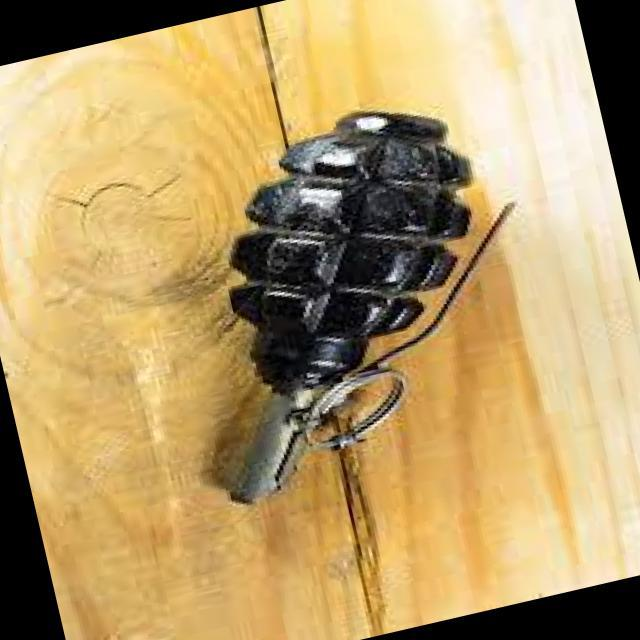grenade: (148, 96, 522, 510)
